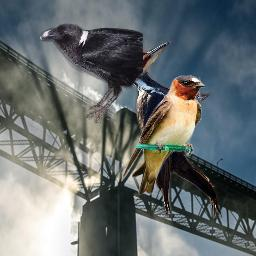Crow: (39, 23, 143, 124)
Swallow: (121, 75, 205, 195)
Woodpecker: (107, 40, 223, 218)
